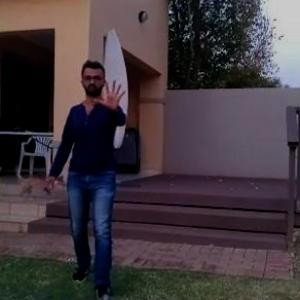follow_hand: (92, 76, 130, 116)
